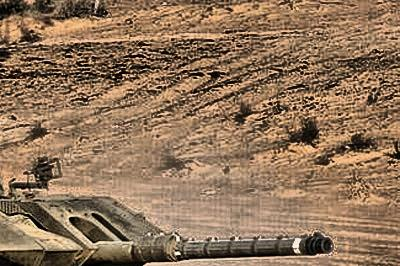tanks: (1, 176, 332, 266)
